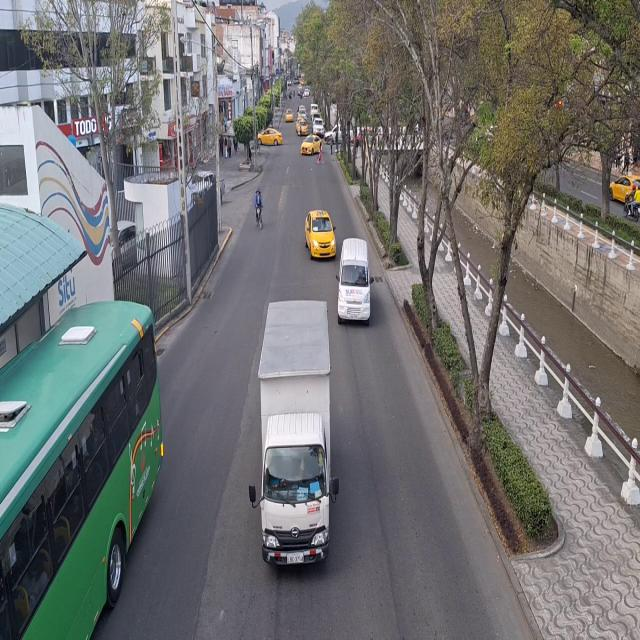BUS: (0, 324, 144, 640)
TRUCK: (260, 297, 328, 566)
